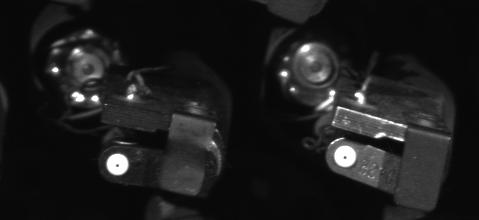fiber: (102, 150, 138, 183), (330, 143, 363, 170)
